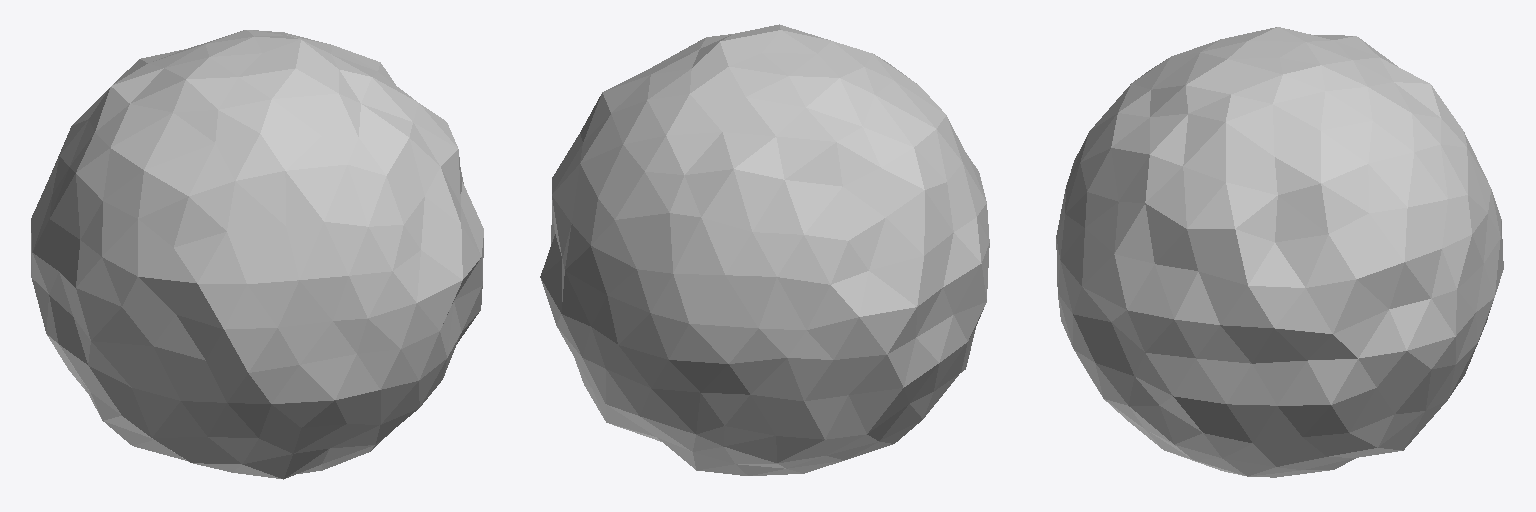
Rendered from fire_meteorite.obj.
3 renders of one model, left to right at view 1: azimuth 30°, elevation 25°; view 2: azimuth 150°, elevation 25°; view 3: azimuth 270°, elevation 25°, orthographic.
Parts seen in each view (by area): view 1: GeoSphere004; view 2: GeoSphere004; view 3: GeoSphere004.
Part boxes in pixels (bbox=[...]): GeoSphere004: bbox=[31, 30, 483, 479]; GeoSphere004: bbox=[540, 24, 989, 475]; GeoSphere004: bbox=[1056, 27, 1503, 477].
Size of the model in its own units: 1132 by 1122 by 1115.